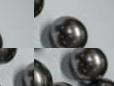ironball: (69, 47, 107, 80), (50, 16, 89, 48), (35, 57, 53, 86), (18, 60, 34, 85), (0, 48, 17, 65)
